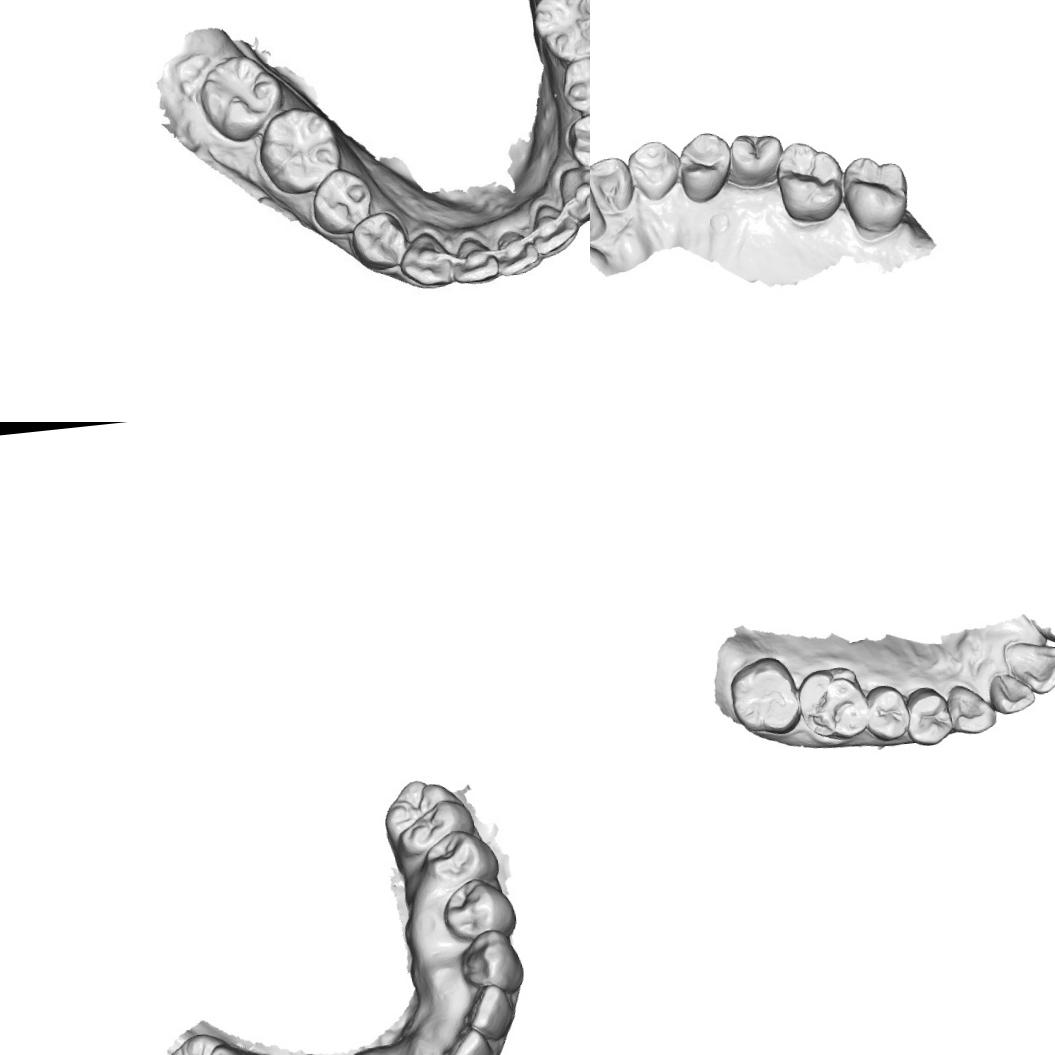canine: (456, 926, 526, 992), (624, 138, 683, 204), (397, 230, 456, 291), (944, 680, 1001, 737), (555, 164, 590, 225)
incisor: (1002, 635, 1055, 700), (466, 978, 518, 1039), (590, 153, 636, 219), (985, 664, 1040, 719), (447, 230, 500, 284), (495, 224, 544, 279), (532, 200, 580, 255), (590, 168, 609, 248), (444, 1029, 498, 1055)
molar: (196, 49, 286, 145), (258, 103, 344, 195), (379, 774, 470, 858), (725, 652, 804, 741), (771, 137, 848, 227), (838, 150, 913, 240), (795, 662, 874, 746), (531, 0, 590, 62), (160, 1030, 242, 1055)
premolar: (441, 876, 518, 942), (674, 129, 736, 206), (426, 828, 502, 885), (726, 130, 788, 192), (314, 170, 372, 232), (860, 680, 914, 745), (904, 684, 954, 748), (351, 214, 407, 271), (562, 51, 590, 117), (568, 112, 590, 172)
